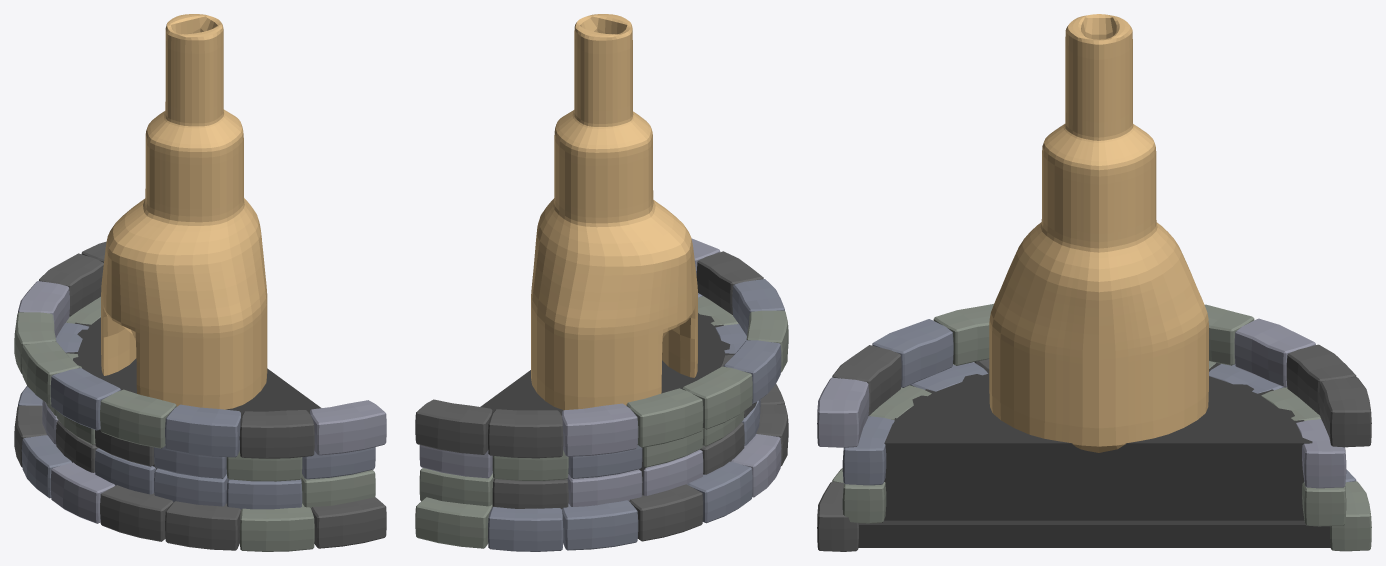
Rendered from Forge.fbx.
3 views of the same model, side by side, from view 1: azimuth 30°, elevation 25°; view 2: azimuth 150°, elevation 25°; view 3: azimuth 270°, elevation 25° (orthographic). The views are drawn at different scales.
Visible parts, largest first — view 1: Forge furnace, Forge.002, Forge, Forge.001, Forge base; view 2: Forge furnace, Forge.002, Forge, Forge.001, Forge base; view 3: Forge furnace, Forge base, Forge.002, Forge.001, Forge.
Part boxes in pixels (left/top/right/bottom): Forge furnace: left=101, top=14, right=267, bottom=409; Forge.002: left=14, top=241, right=386, bottom=458; Forge: left=14, top=386, right=386, bottom=551; Forge.001: left=42, top=296, right=375, bottom=509; Forge base: left=65, top=317, right=321, bottom=469; Forge furnace: left=531, top=14, right=697, bottom=410; Forge.002: left=415, top=238, right=788, bottom=458; Forge: left=415, top=384, right=788, bottom=551; Forge.001: left=419, top=293, right=760, bottom=509; Forge base: left=480, top=313, right=734, bottom=495; Forge furnace: left=989, top=14, right=1208, bottom=452; Forge base: left=858, top=361, right=1330, bottom=547; Forge.002: left=817, top=304, right=1371, bottom=447; Forge.001: left=842, top=359, right=1346, bottom=526; Forge: left=817, top=468, right=1371, bottom=551.
Size of the model in its own units: 1427 by 2696 by 2764.
